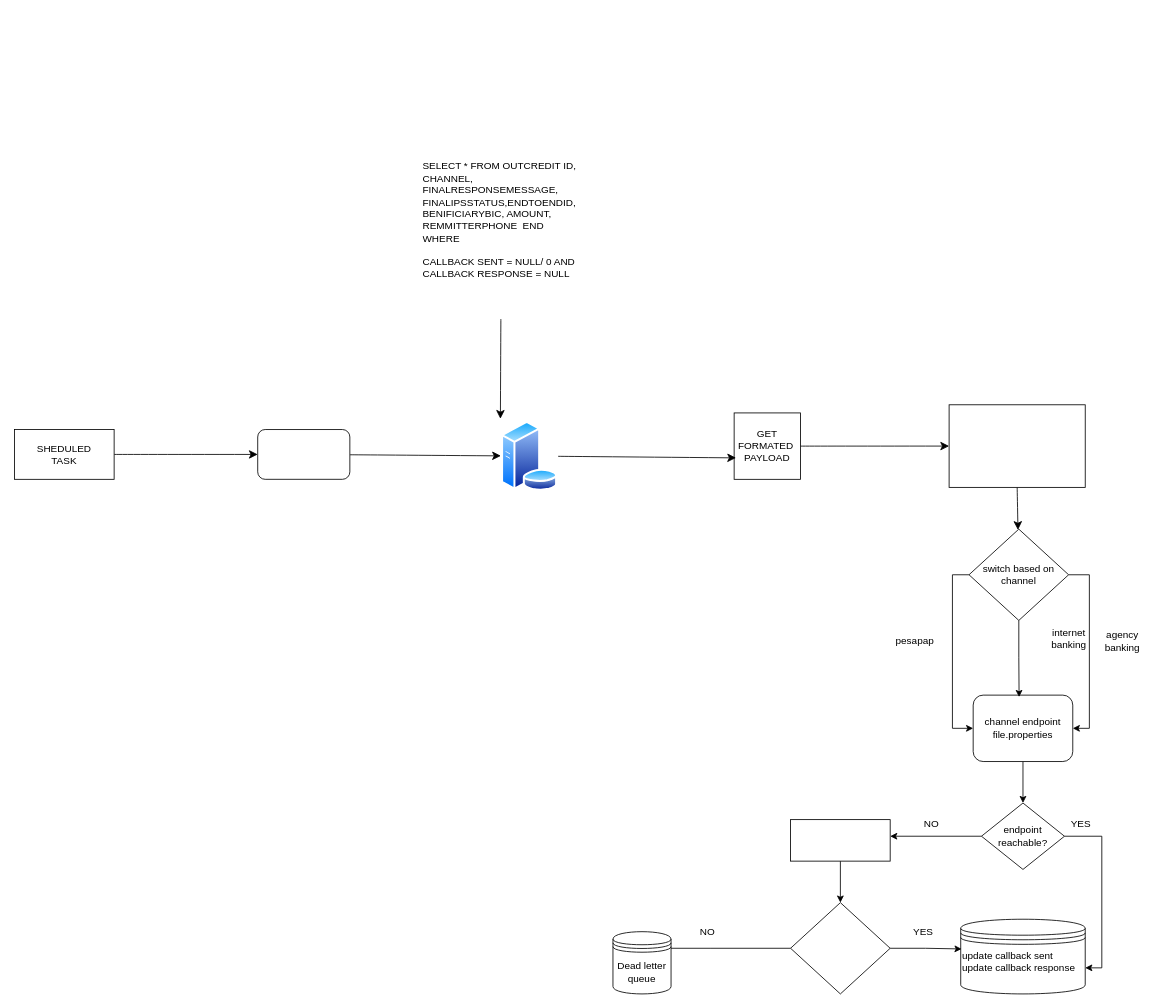
Image size: 1162x1008. Some labels were removed from this diagram. The centre of each missing label's shape, as x and y in pixels:
"callback reachable" goes at (x=840, y=948).
"GET CHANNEL" goes at (x=1016, y=445).
"INITIATE SEQUENCE" goes at (x=303, y=454).
"Retry 3 times with set interval" goes at (x=840, y=840).
